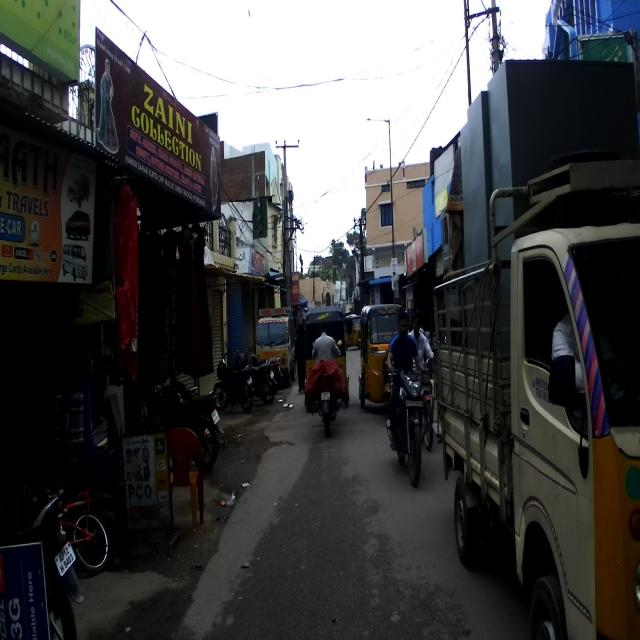autorickshaw: (357, 303, 407, 409)
motorcycle: (0, 493, 85, 639), (138, 359, 224, 472), (384, 365, 430, 487), (309, 338, 342, 438), (211, 343, 255, 413), (230, 346, 277, 406)
truck: (433, 58, 640, 640), (256, 306, 296, 386)
